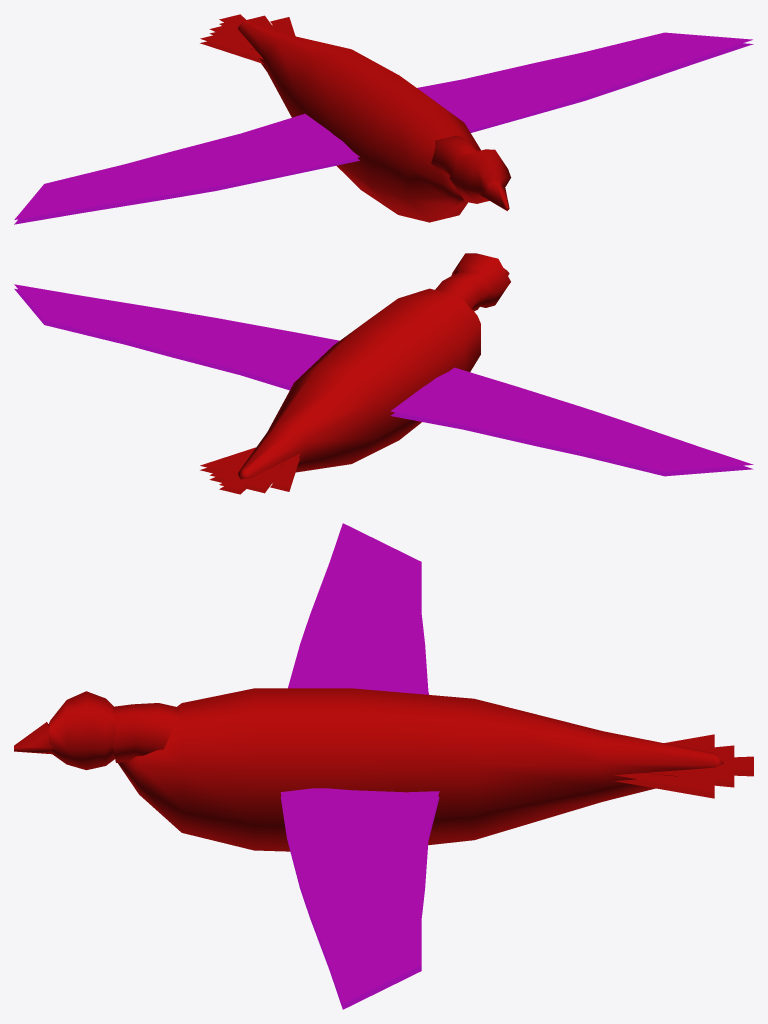
Rendered from cormorant.glb.
3 views of the same model, one above another, from view 1: azimuth 30°, elevation 25°; view 2: azimuth 150°, elevation 25°; view 3: azimuth 270°, elevation 25° (orthographic). The views are drawn at different scales.
Visible parts, largest first — view 1: bird; view 2: bird; view 3: bird.
Part boxes in pixels (bbox=[...]): bird: bbox=[14, 14, 753, 224]; bird: bbox=[14, 253, 753, 494]; bird: bbox=[14, 523, 753, 1009].
Bounding box in the file's own units: 1.35 × 0.1836 × 0.8789.
